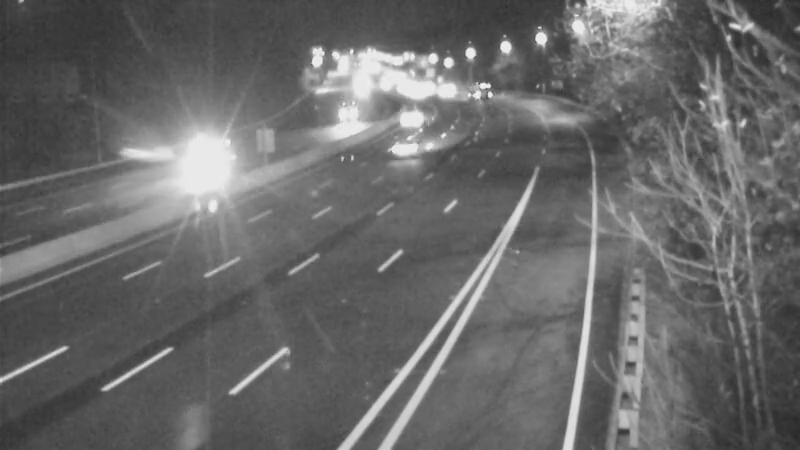vehicle: (158, 137, 238, 217), (456, 68, 506, 118), (421, 66, 471, 116), (387, 91, 437, 141), (383, 120, 433, 170), (180, 116, 230, 166), (325, 92, 375, 142)
